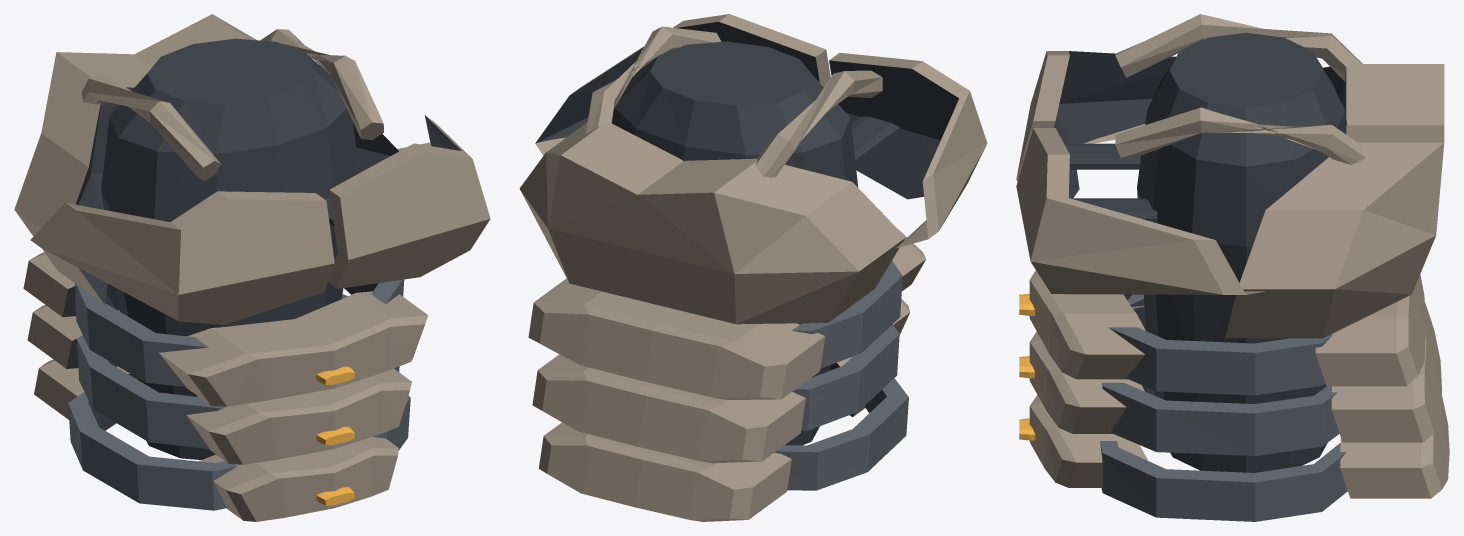
File: torso_medium.glb
3 renders of one model, left to right at view 1: azimuth 30°, elevation 25°; view 2: azimuth 150°, elevation 25°; view 3: azimuth 270°, elevation 25°, orthographic. The views are drawn at different scales.
Parts seen in each view (by area): view 1: torso_medium; view 2: torso_medium; view 3: torso_medium.
Part boxes in pixels (x1,y1,x2,y2): torso_medium: [14, 14, 490, 521]; torso_medium: [519, 14, 987, 521]; torso_medium: [1016, 14, 1449, 521].
Size of the model in its own units: 1.18 by 1.08 by 1.07.
